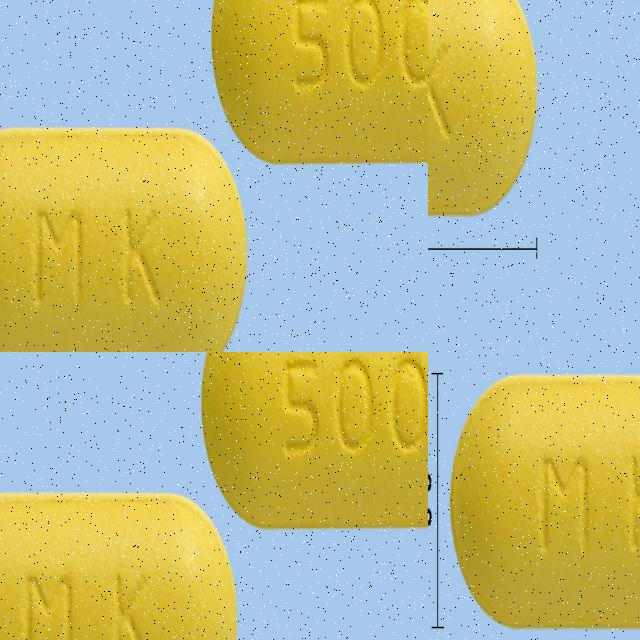Cefixime Cap- Nelson: (40, 252, 323, 352)
Clarione: (428, 0, 527, 222)
Clorid: (196, 352, 428, 559), (0, 477, 231, 640)
Craycin: (449, 372, 640, 627)
